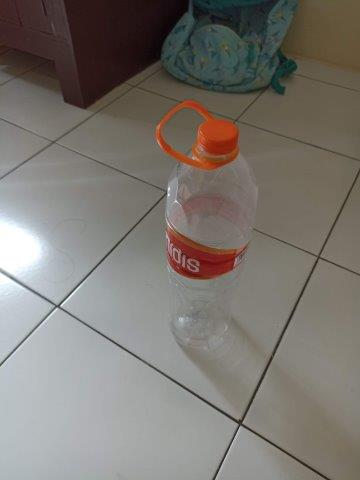botolplastik: (167, 118, 259, 348)
